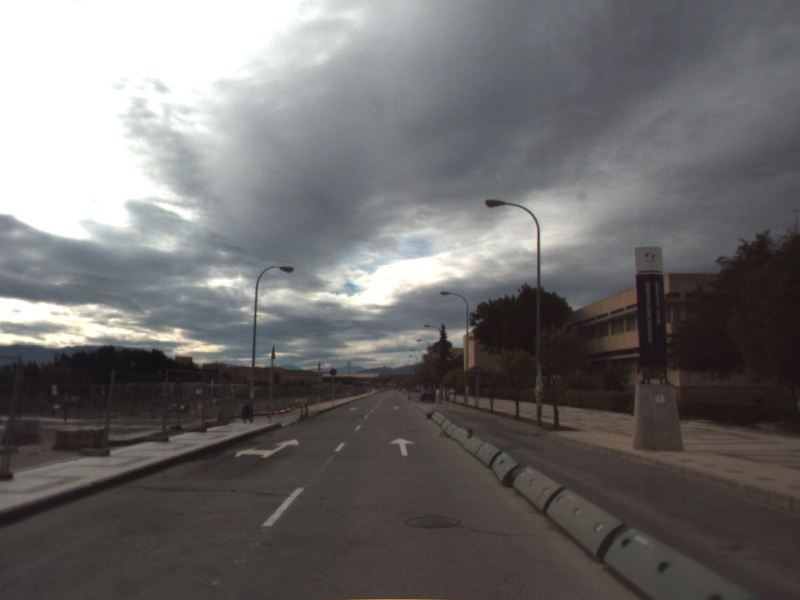STRAIGHT: (387, 435, 417, 458)
STRAIGHT_LEFT: (233, 437, 301, 460)
